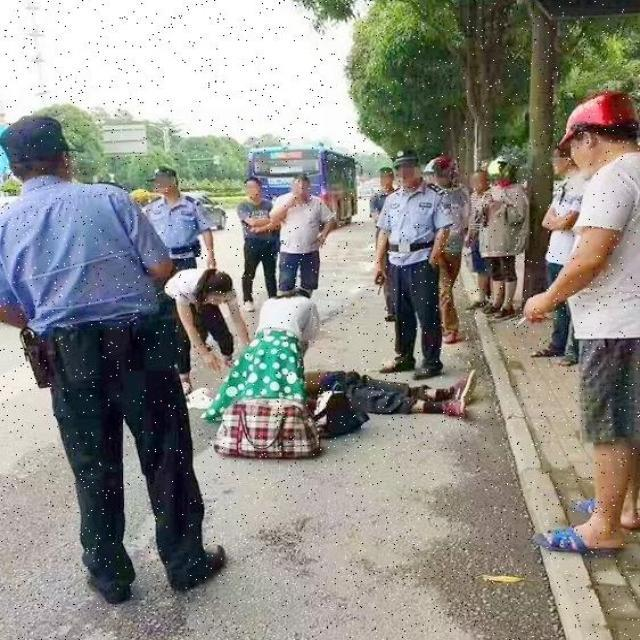fall: (239, 358, 490, 416)
